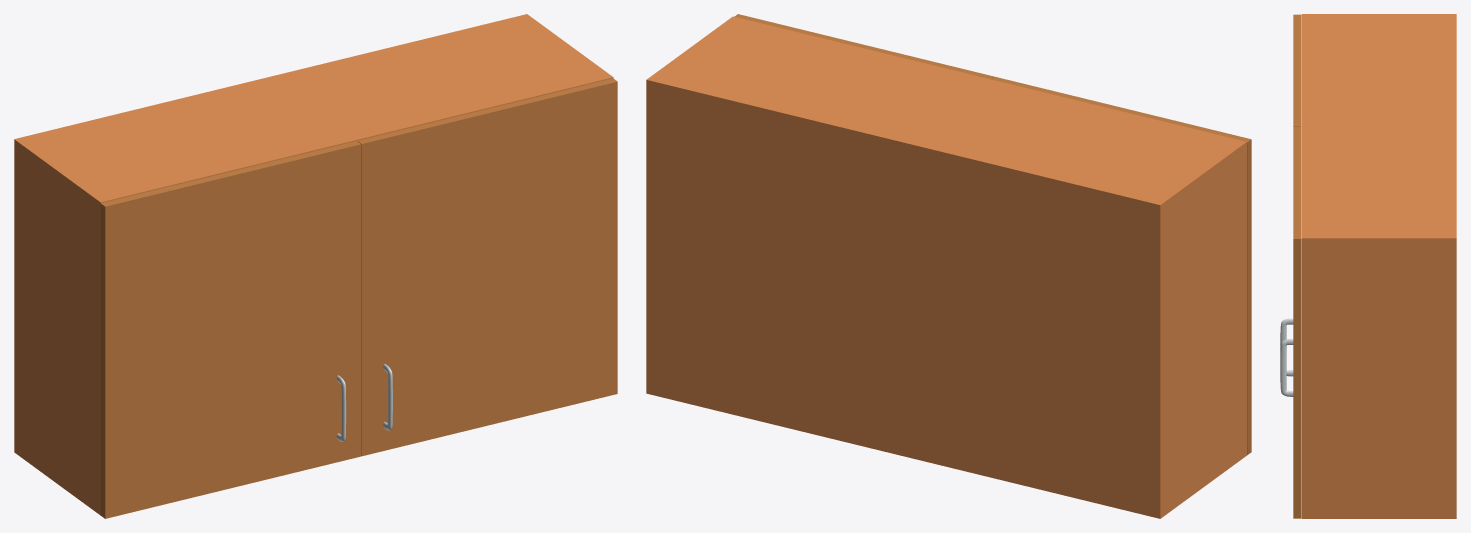
The model's file is cabinetupper.fbx.
3 renders of one model, left to right at view 1: azimuth 30°, elevation 25°; view 2: azimuth 150°, elevation 25°; view 3: azimuth 270°, elevation 25°, orthographic. The views are drawn at different scales.
Visible parts, largest first — view 1: Cabinet1_Door, Cabinet2_Door, Cabinet1, Cabinet2; view 2: Cabinet1, Cabinet2, Cabinet1_Door, Cabinet2_Door; view 3: Cabinet2, Cabinet1, Cabinet2_Door, Cabinet1_Door, Handle.001, Handle.
Part boxes in pixels (bbox=[...]): Cabinet1_Door: bbox=[100, 141, 361, 518]; Cabinet2_Door: bbox=[357, 78, 617, 456]; Cabinet1: bbox=[14, 76, 356, 515]; Cabinet2: bbox=[271, 14, 613, 140]; Cabinet1: bbox=[903, 79, 1246, 518]; Cabinet2: bbox=[646, 16, 989, 455]; Cabinet1_Door: bbox=[991, 76, 1251, 455]; Cabinet2_Door: bbox=[734, 14, 994, 79]; Cabinet2: bbox=[1301, 126, 1456, 518]; Cabinet1: bbox=[1301, 14, 1456, 126]; Cabinet2_Door: bbox=[1293, 127, 1301, 518]; Cabinet1_Door: bbox=[1293, 14, 1301, 126]; Handle.001: bbox=[1280, 339, 1293, 396]; Handle: bbox=[1280, 318, 1293, 376].
Size of the model in its own units: 120 by 70 by 39.86.
